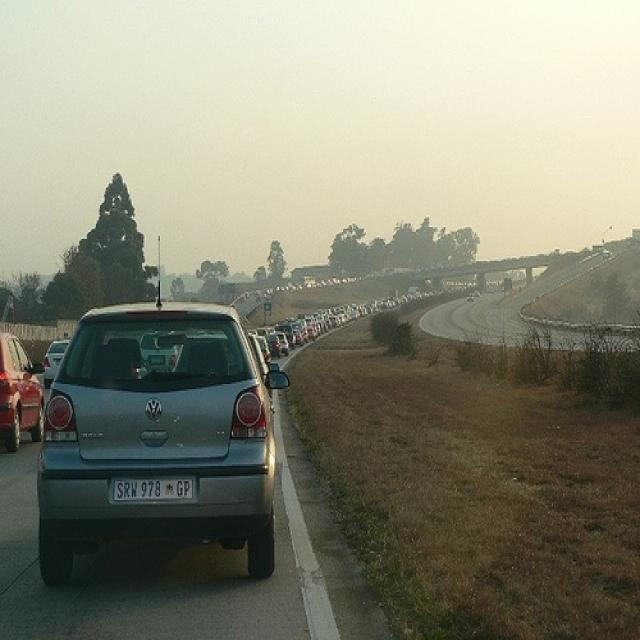car: (33, 300, 293, 584), (3, 330, 46, 452)
